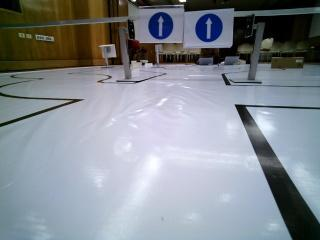straight: (186, 9, 233, 47), (136, 8, 184, 42)
